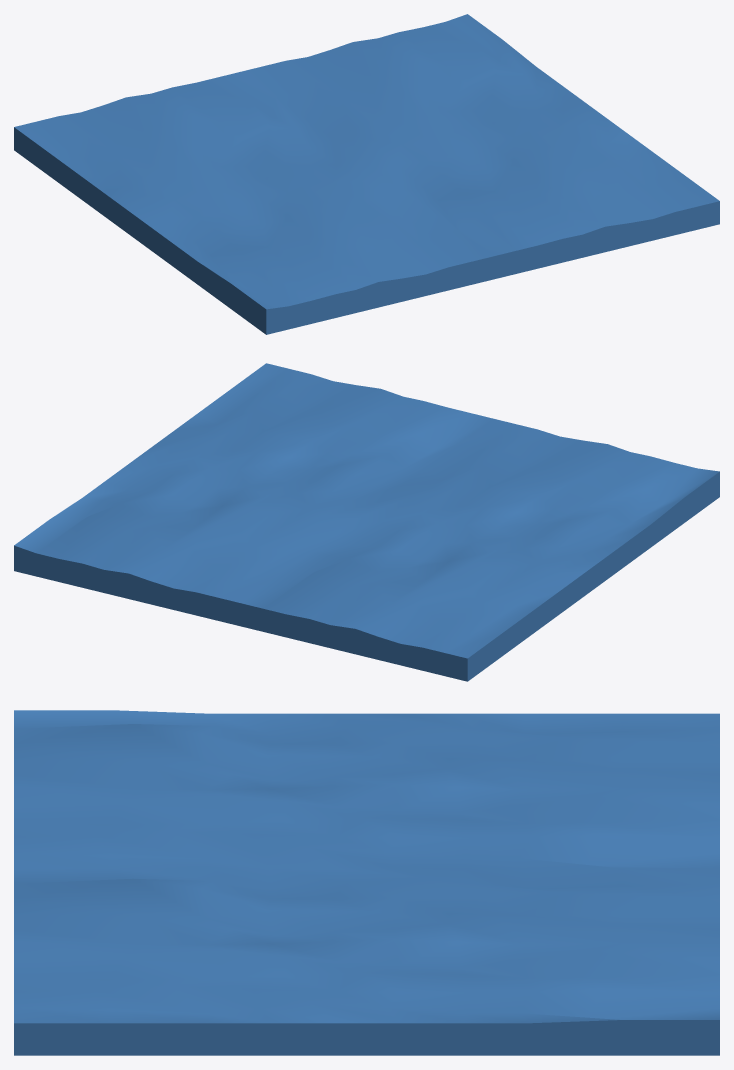
File: Water_1.fbx
3 views of the same model, one above another, from view 1: azimuth 30°, elevation 25°; view 2: azimuth 150°, elevation 25°; view 3: azimuth 270°, elevation 25° (orthographic). The views are drawn at different scales.
Visible parts, largest first — view 1: Water_1; view 2: Water_1; view 3: Water_1.
Part boxes in pixels (left/top/right/bottom): Water_1: left=14, top=14, right=719, bottom=334; Water_1: left=14, top=363, right=719, bottom=681; Water_1: left=14, top=710, right=719, bottom=1055.
Size of the model in its own units: 20645 by 1376 by 19888.
